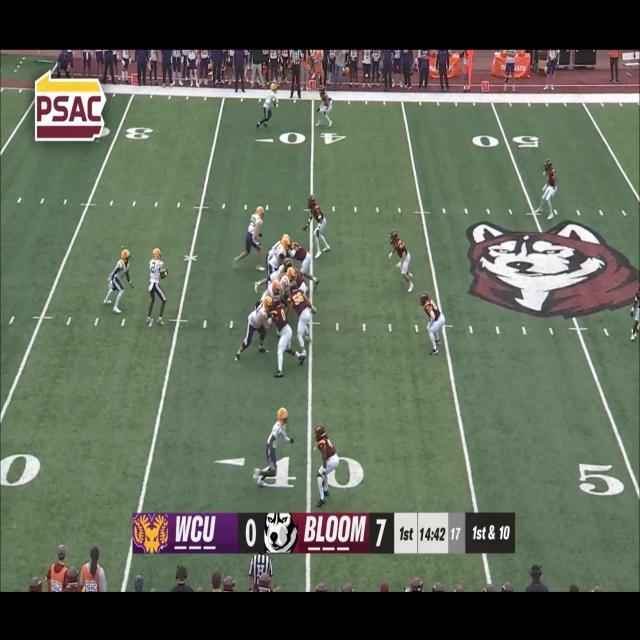football: (158, 268, 169, 279)
